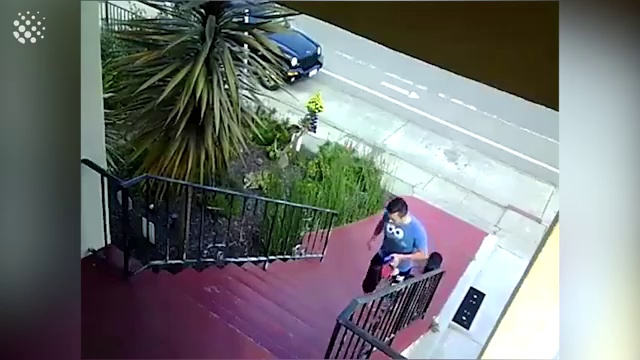face: (388, 211, 401, 225)
